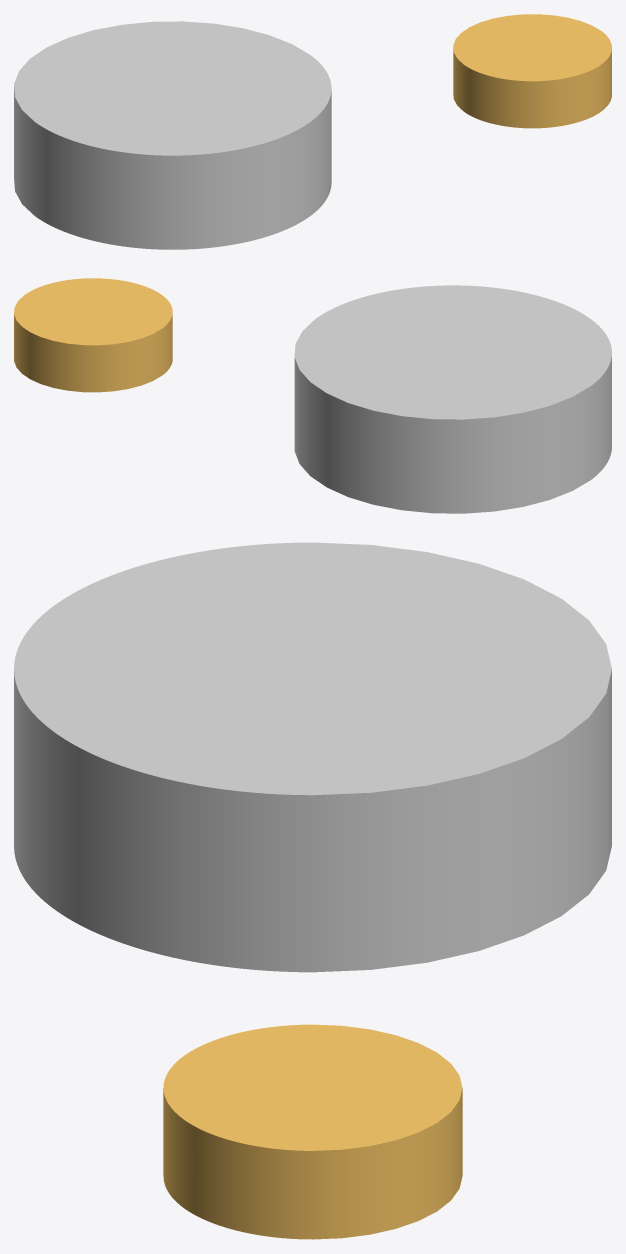
The model's file is serial_test_example_fn_std-transform-scale3_output.glb.
3 renders of one model, top to bottom at view 1: azimuth 30°, elevation 25°; view 2: azimuth 150°, elevation 25°; view 3: azimuth 270°, elevation 25°, orthographic. The views are drawn at different scales.
Bounding box in the file's own units: 0.0063 × 0.001 × 0.00306.
